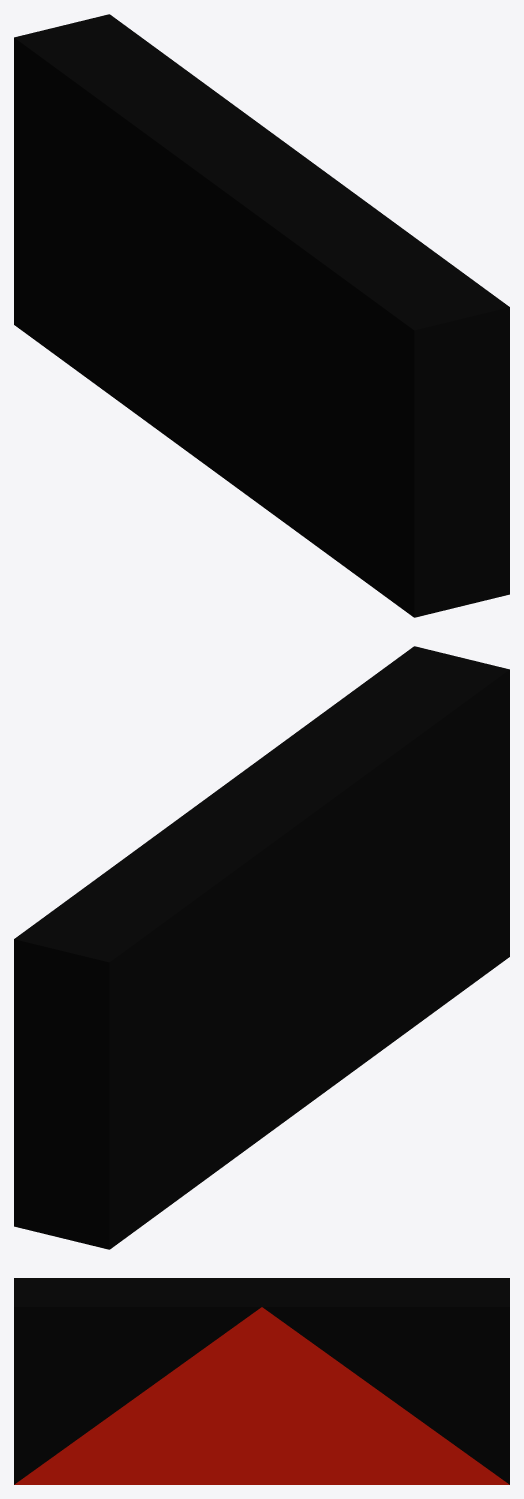
File: goal.glb
3 views of the same model, one above another, from view 1: azimuth 30°, elevation 25°; view 2: azimuth 150°, elevation 25°; view 3: azimuth 270°, elevation 25° (orthographic). The views are drawn at different scales.
Visible parts, largest first — view 1: Cube; view 2: Cube; view 3: Cube.
Part boxes in pixels (x1,y1,x2,y2): Cube: (14,14,509,617); Cube: (14,646,509,1249); Cube: (14,1278,509,1484).
Bounding box in the file's own units: 0.196 × 0.5625 × 1.42.
